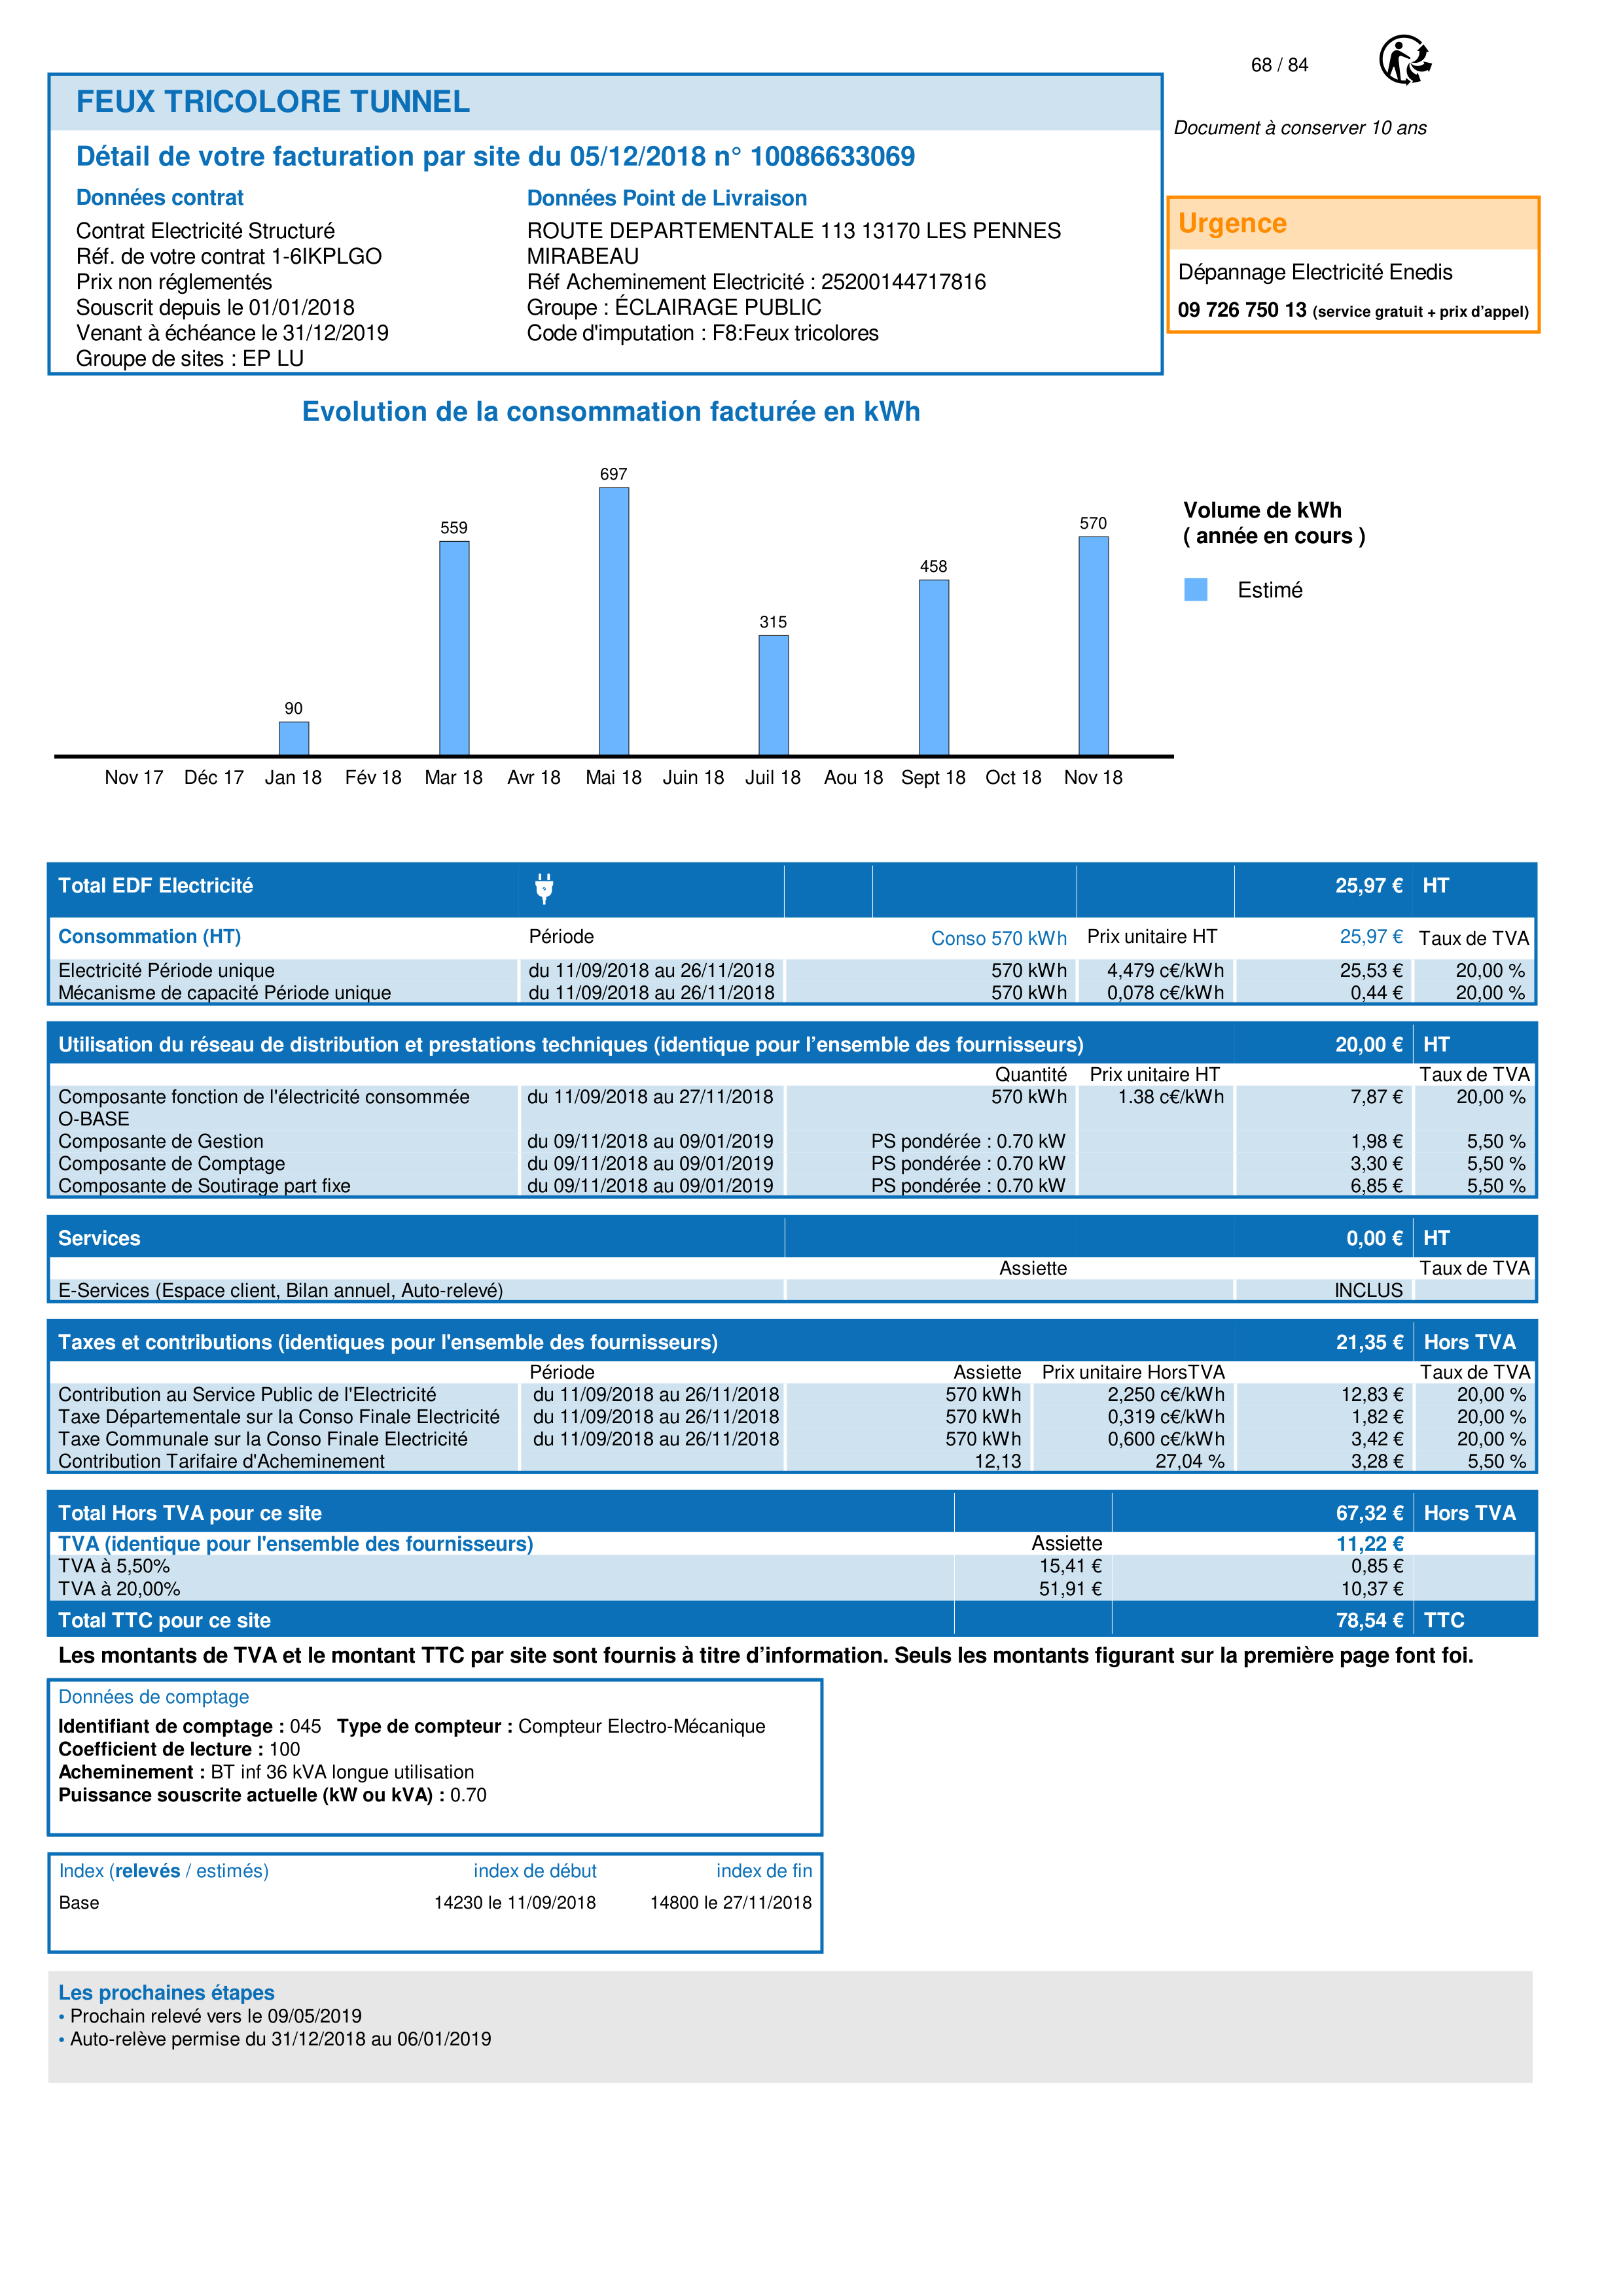area: (46, 1850, 824, 1954)
type_indicator: (47, 1854, 286, 1889)
